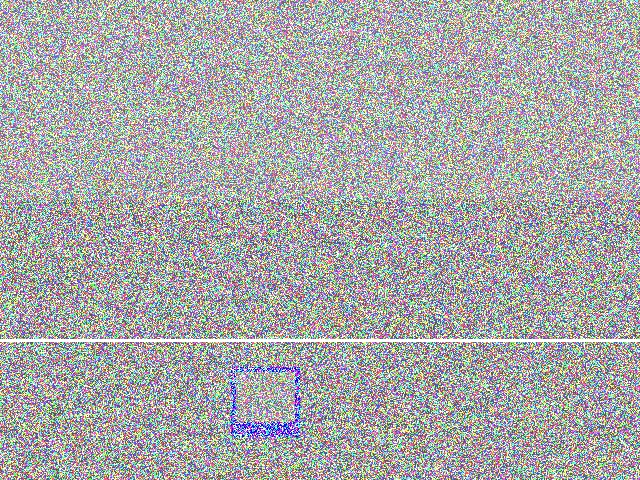bus: (1, 160, 140, 237), (83, 263, 186, 313)
car: (168, 163, 284, 288)
